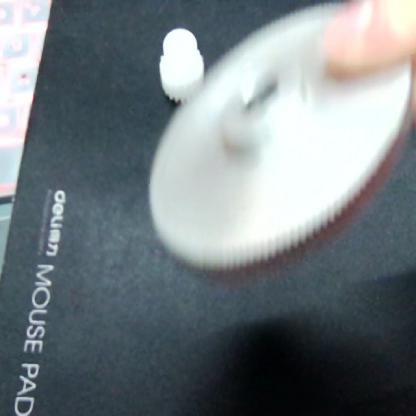FOD: (143, 1, 411, 284), (153, 20, 203, 104)
